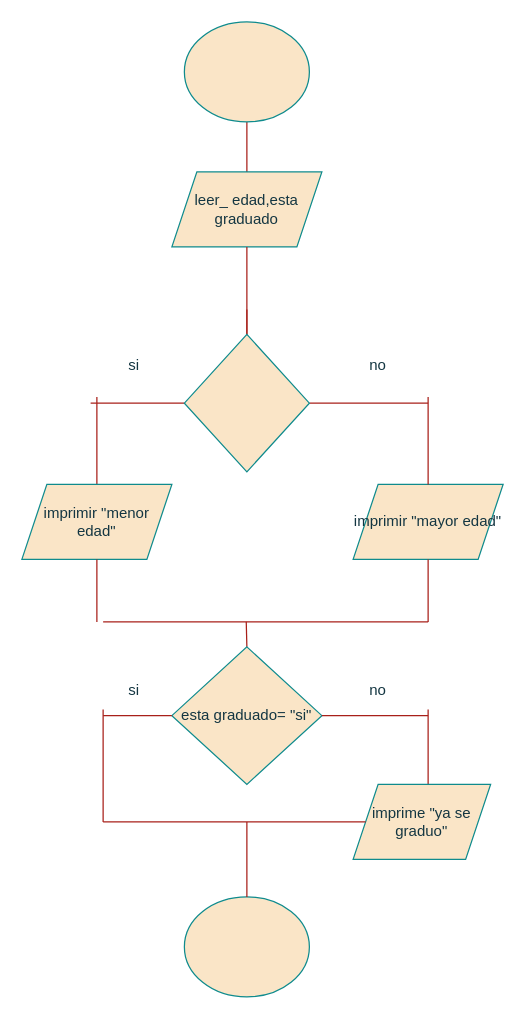
Some shapes in this 525 by 1019 pixel diagram are drawn without their labels. The centre of each missing label's shape, as x and y in pixels:
edad >= 18: point 246,402
fin: point 246,946
inicio: point 246,71
